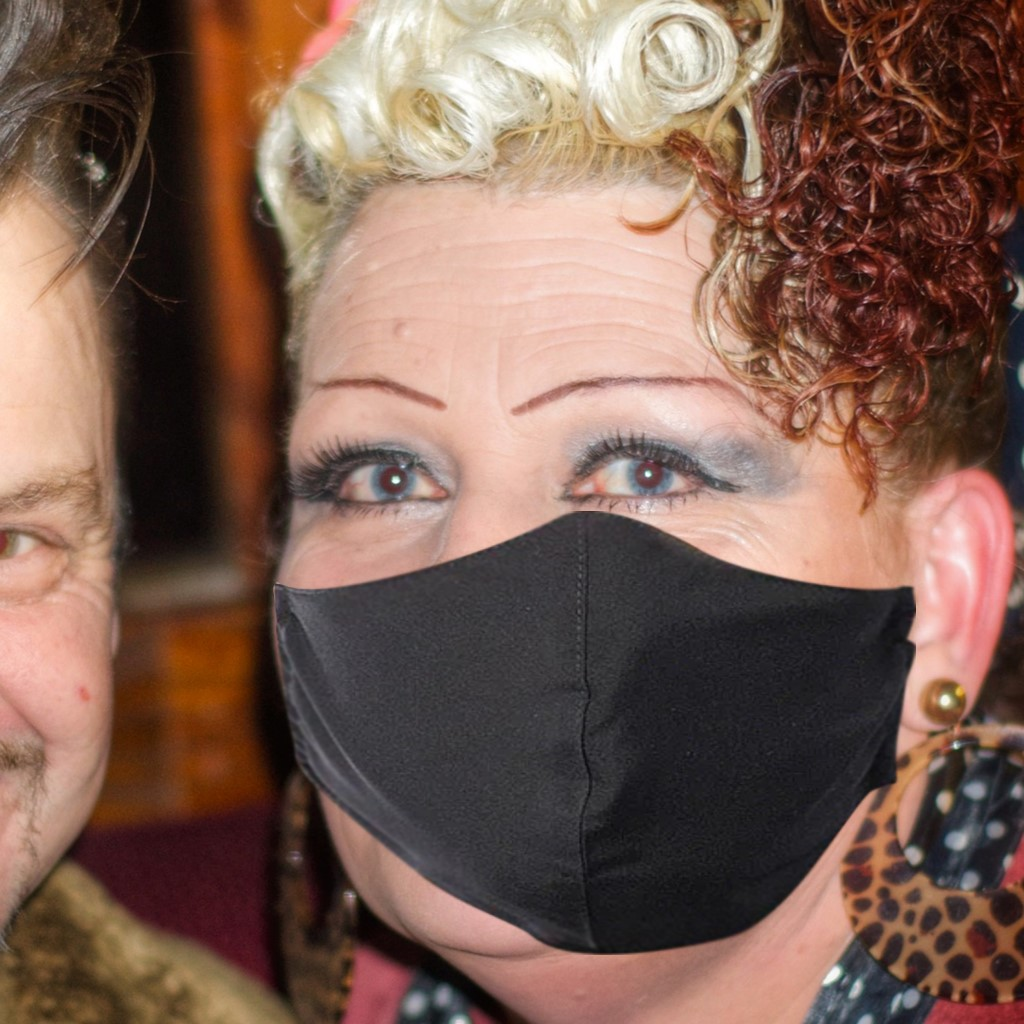con_mascara: (256, 134, 918, 962)
